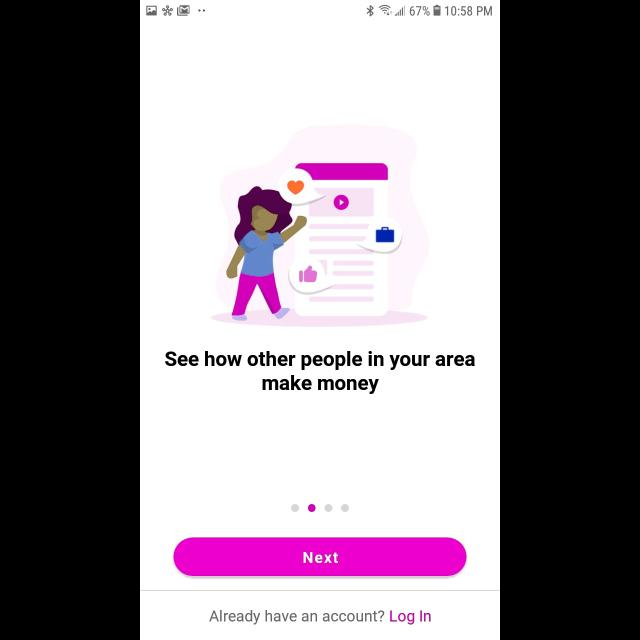image: (210, 125, 430, 328)
pageindicator: (291, 503, 349, 512)
text: (165, 352, 475, 394), (209, 610, 431, 624)
textbutton: (174, 538, 466, 576)
uppertaskbar: (140, 1, 500, 18)
